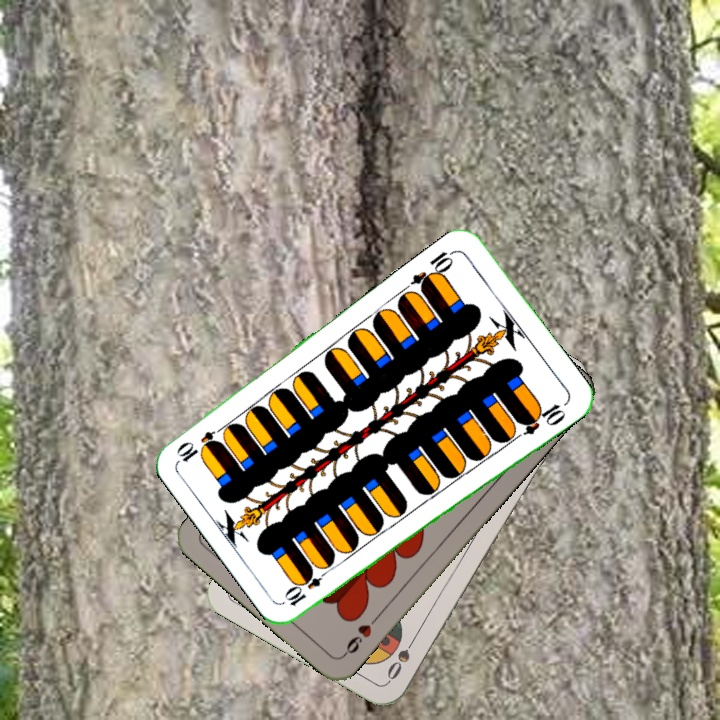E10: (408, 246, 458, 295), (281, 563, 333, 609)
H9: (339, 611, 383, 659)
SO: (382, 630, 420, 684)
